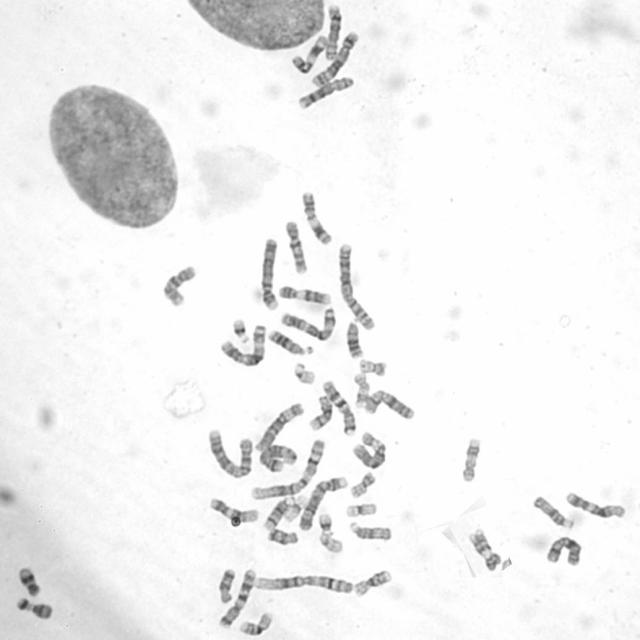A1: (247, 434, 327, 501), (250, 570, 355, 595)
A2: (334, 238, 377, 332), (203, 423, 254, 480)
A3: (216, 320, 268, 368), (277, 303, 338, 342)
B4: (294, 472, 349, 532), (256, 233, 280, 312)
B5: (308, 27, 360, 88), (256, 440, 299, 473)
C10: (158, 260, 198, 308), (280, 215, 309, 275)
C11: (297, 186, 334, 246), (287, 30, 330, 74)
C12: (561, 487, 627, 520), (205, 492, 260, 524)
C6: (250, 398, 305, 453), (348, 427, 388, 469)
C7: (214, 564, 257, 629), (318, 376, 357, 436)
C8: (294, 72, 356, 110), (321, 1, 344, 60)
C9: (464, 525, 502, 572), (274, 280, 333, 305)
D13: (264, 324, 315, 356), (342, 317, 365, 359)
D14: (260, 493, 298, 531), (304, 391, 334, 432)
D15: (529, 490, 575, 530), (345, 518, 393, 542)
E16: (350, 565, 393, 598), (235, 608, 274, 636)
E17: (458, 433, 482, 483), (350, 368, 370, 408)
E18: (215, 564, 236, 605), (263, 524, 300, 547)
F19: (341, 498, 378, 518), (280, 494, 304, 524)
F20: (346, 468, 378, 499), (356, 354, 388, 378)
G21: (228, 313, 250, 345), (315, 509, 334, 535)
G22: (289, 358, 317, 385), (315, 529, 345, 554)
X: (360, 386, 416, 420), (542, 532, 584, 566)
